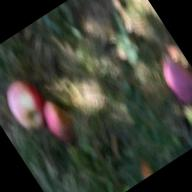Apples: (0, 73, 55, 135), (36, 95, 80, 146), (156, 53, 192, 107)
